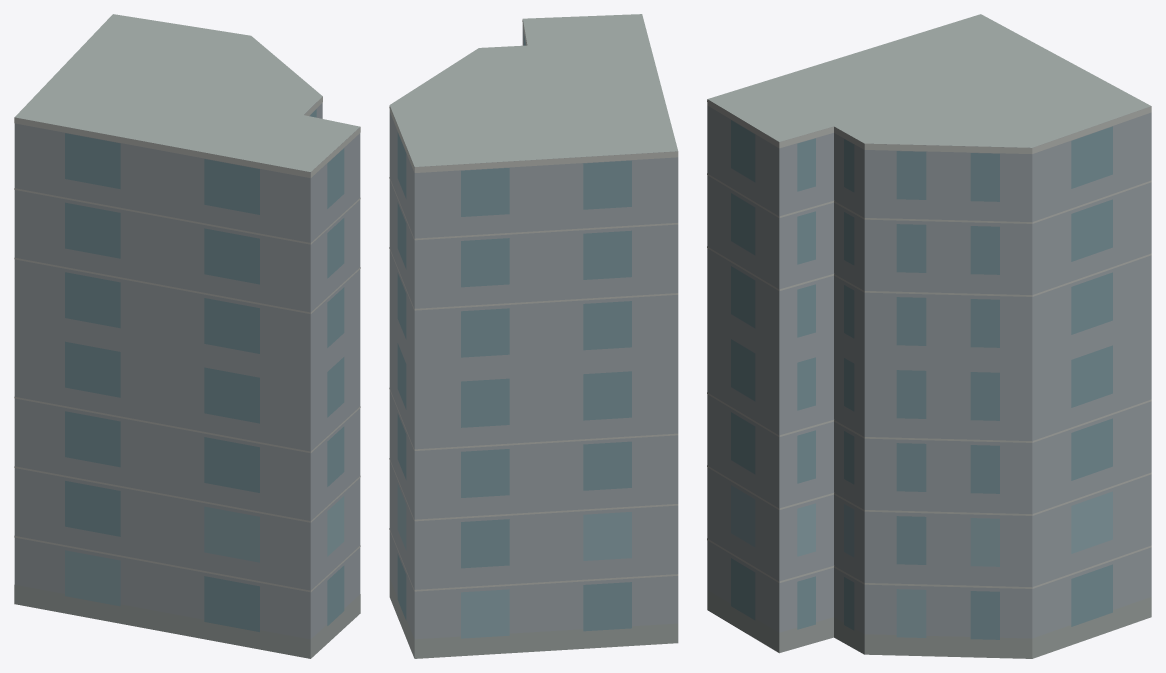
Rendered from survey-upis-32810577.glb.
3 views of the same model, side by side, from view 1: azimuth 30°, elevation 25°; view 2: azimuth 150°, elevation 25°; view 3: azimuth 270°, elevation 25° (orthographic). The views are drawn at different scales.
Parts seen in each view (by area): view 1: survey-upis-32810577.tmp; view 2: survey-upis-32810577.tmp; view 3: survey-upis-32810577.tmp.
Part boxes in pixels (bbox=[...]): survey-upis-32810577.tmp: bbox=[14, 14, 360, 658]; survey-upis-32810577.tmp: bbox=[389, 14, 678, 658]; survey-upis-32810577.tmp: bbox=[707, 14, 1151, 658].
Bounding box in the file's own units: 11.09 × 19.7 × 15.54.
